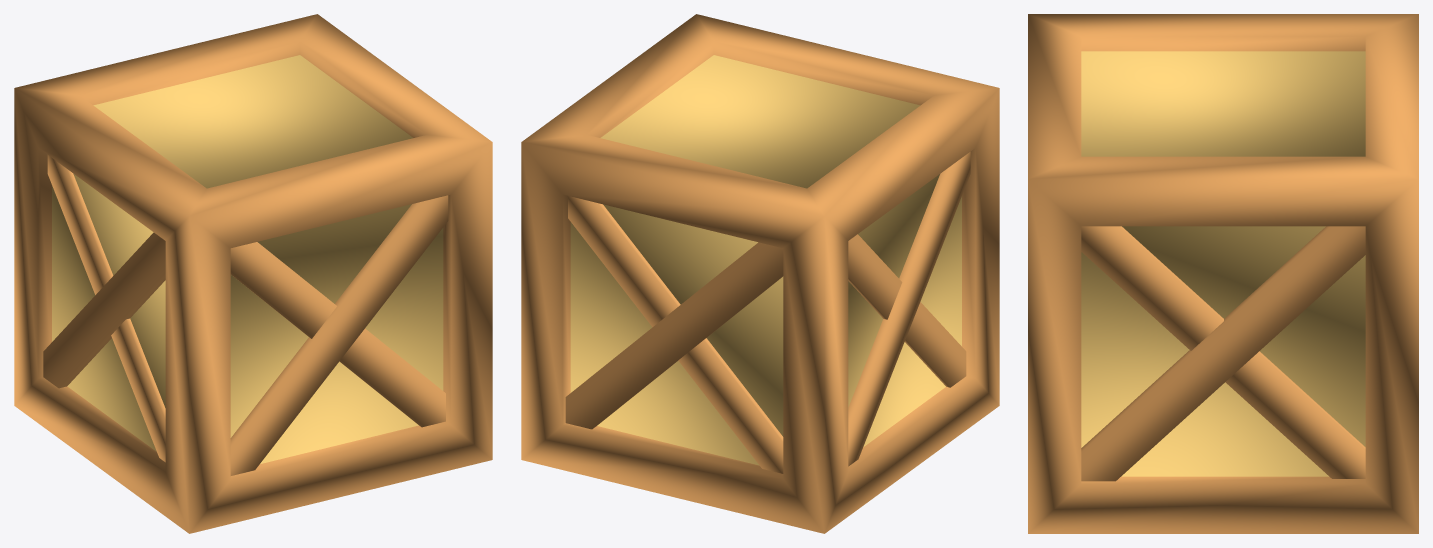
File: CrateA.fbx
3 views of the same model, side by side, from view 1: azimuth 30°, elevation 25°; view 2: azimuth 150°, elevation 25°; view 3: azimuth 270°, elevation 25° (orthographic). The views are drawn at different scales.
Visible parts, largest first — view 1: Obj_CrateA; view 2: Obj_CrateA; view 3: Obj_CrateA.
Boxes of the visible parts, x1,y1,x2,y2 form: Obj_CrateA: (14, 14, 492, 533); Obj_CrateA: (521, 14, 999, 533); Obj_CrateA: (1028, 14, 1418, 533).
Size of the model in its own units: 399 by 399 by 400.
